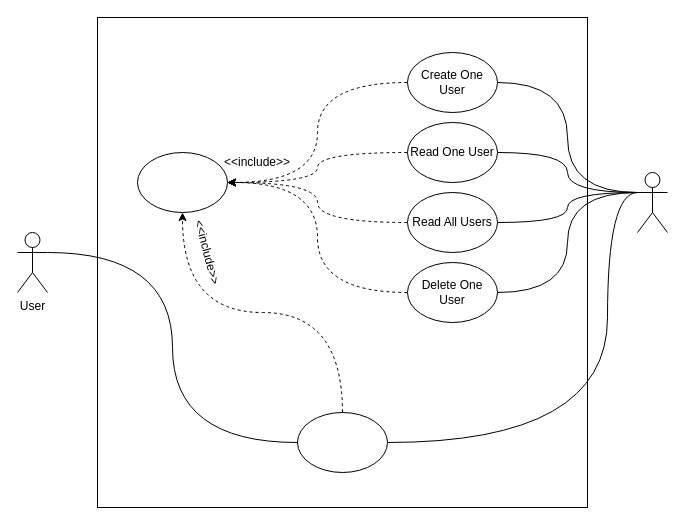
The diagram is 687 pixels wide and 525 high, and some of its shapes have lost their labels. Each missing label, with the centre of its shape:
Admin: the point at 652,202
Get My Profile: the point at 342,442
Login: the point at 182,182
